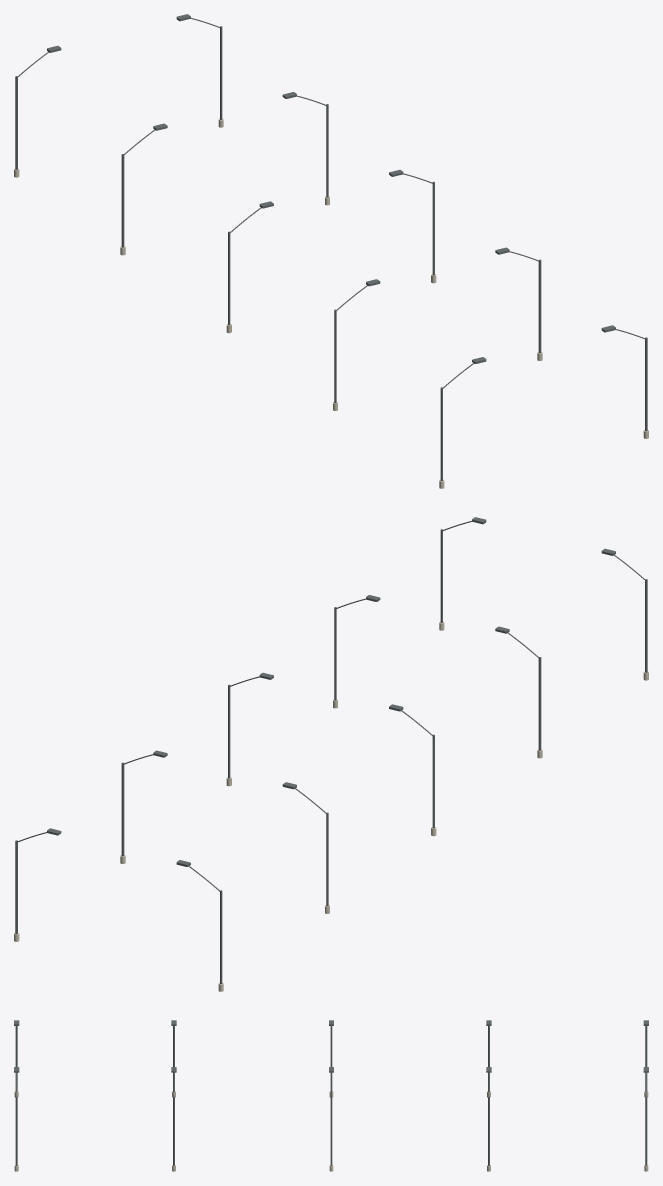
The picture shows the model from 3 angles, top to bottom: view 1: azimuth 30°, elevation 25°; view 2: azimuth 150°, elevation 25°; view 3: azimuth 270°, elevation 25°; orthographic projection. The views are drawn at different scales.
Parts seen in each view (by area): view 1: buildings_s_1_3_Dark_Metal; view 2: buildings_s_1_3_Dark_Metal; view 3: buildings_s_1_3_Dark_Metal, buildings_s_1_3_Warm_Limestone.
Part boxes in pixels (<box>): buildings_s_1_3_Dark_Metal: <box>15,14,647,480</box>; buildings_s_1_3_Dark_Metal: <box>15,517,647,983</box>; buildings_s_1_3_Dark_Metal: <box>14,1020,648,1165</box>; buildings_s_1_3_Warm_Limestone: <box>14,1091,648,1171</box>.
Bounding box in the file's own units: 30.67 × 16.75 × 109.
